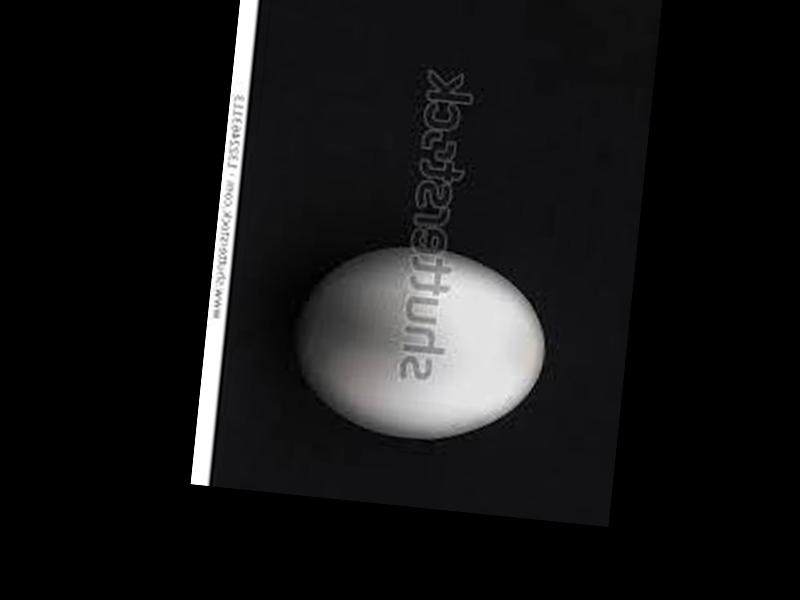Eggs: (289, 241, 556, 452)
